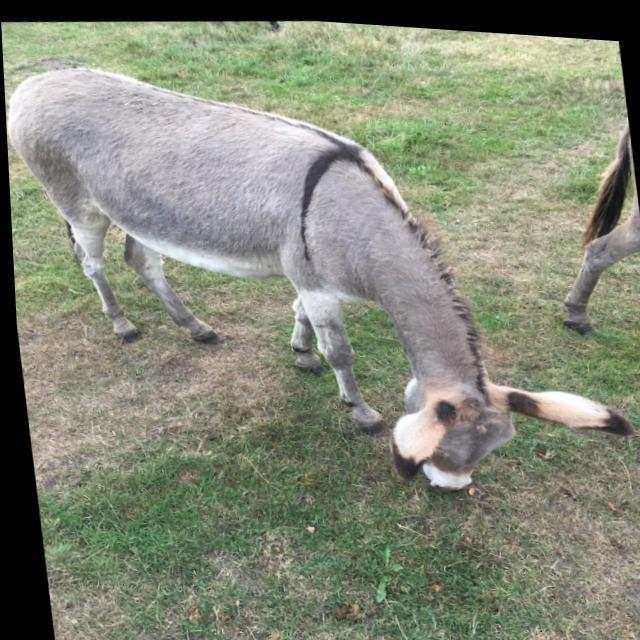Donkey: (1, 24, 640, 524)
